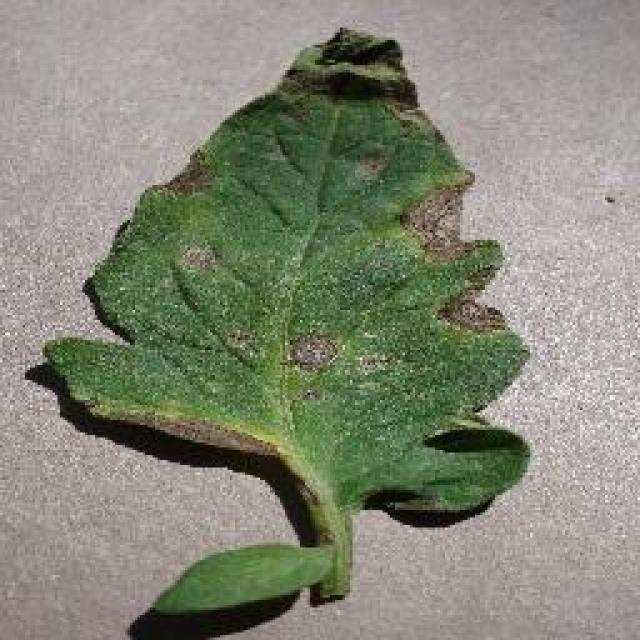Tomato___Early_blight: (37, 24, 539, 612)
